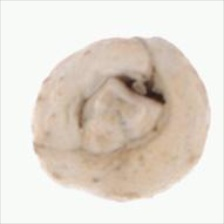L3: (75, 75, 169, 152)
L4: (32, 36, 211, 200)
